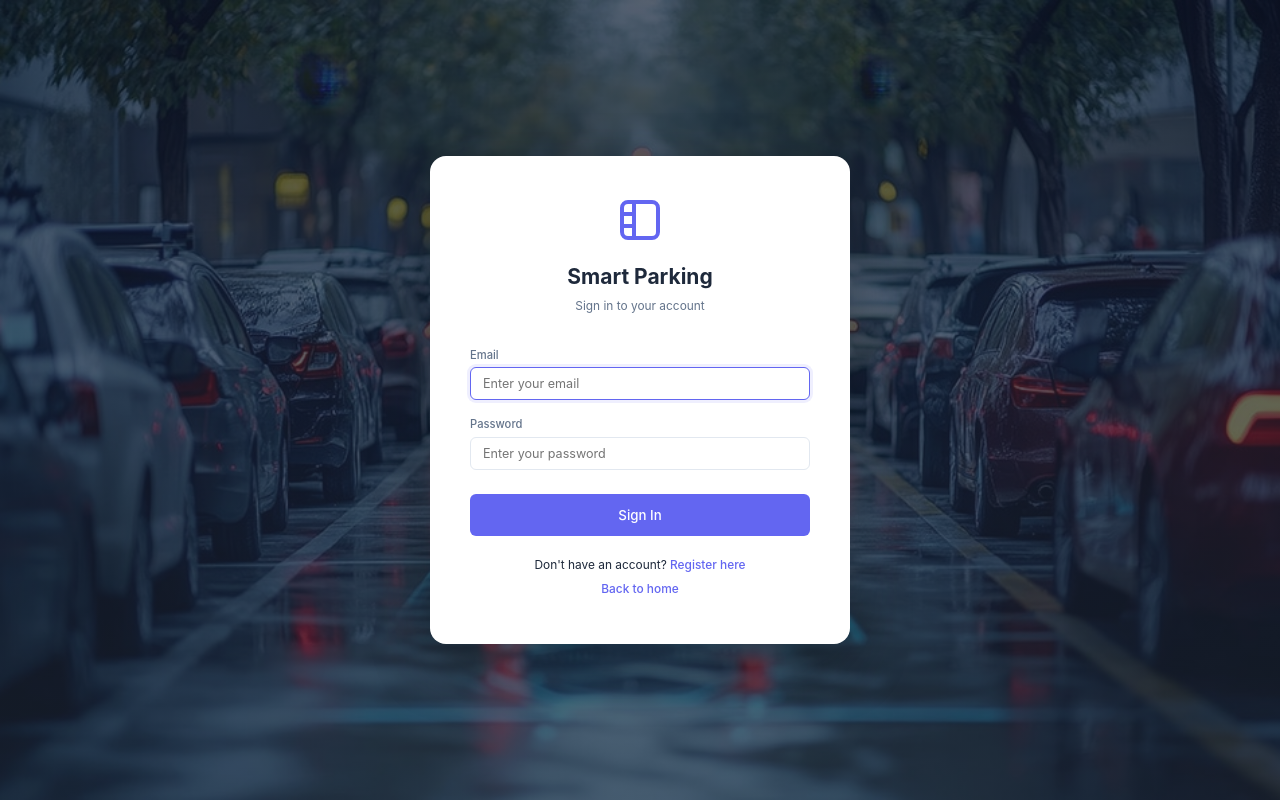
Scenario: LoginPage › shows an error when the login request fails
The width and height of the screenshot is (1280, 800).
Type "driver@example.com" into the field labelled "Email".
click(640, 384); type("driver@example.com")  # box top-left (470, 367), bottom-right (810, 400)
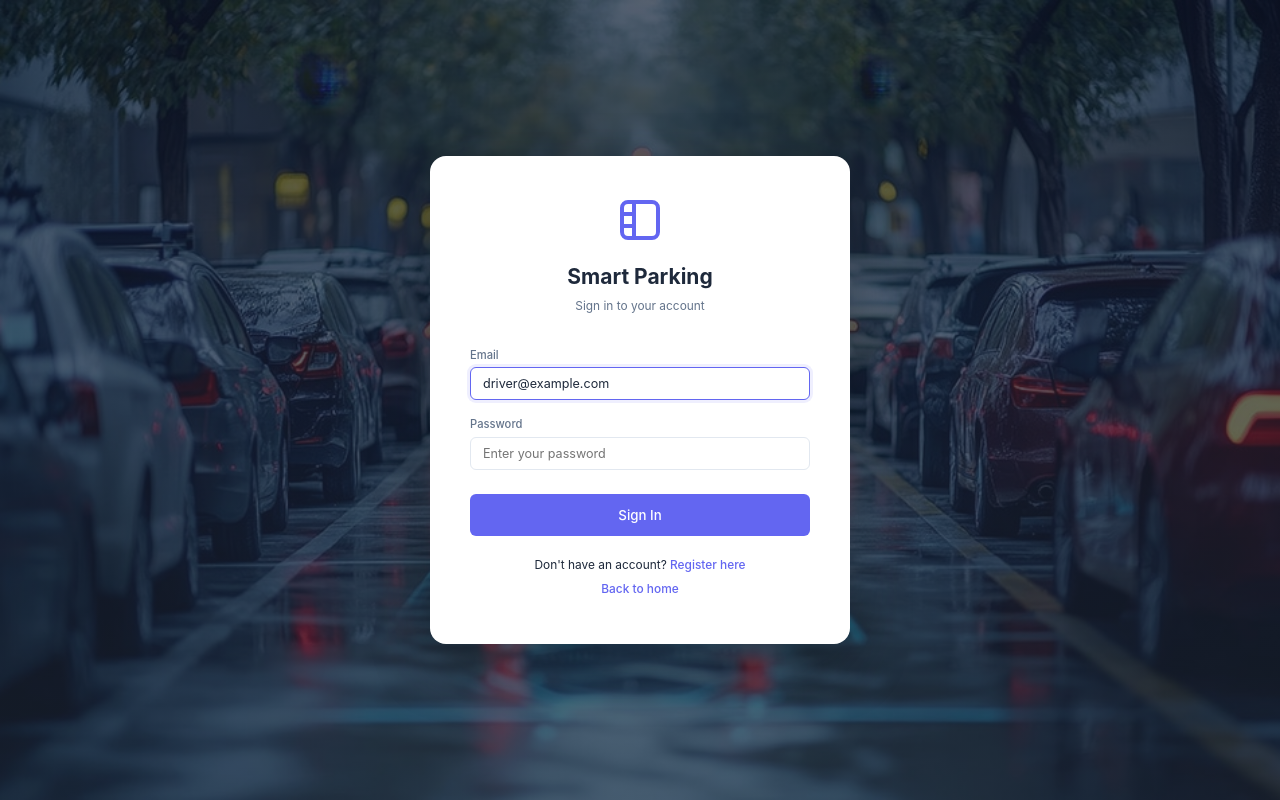
Type "wrong-pass" into the password field labelled "Password".
click(640, 454); type("wrong-pass")  # box top-left (470, 437), bottom-right (810, 470)
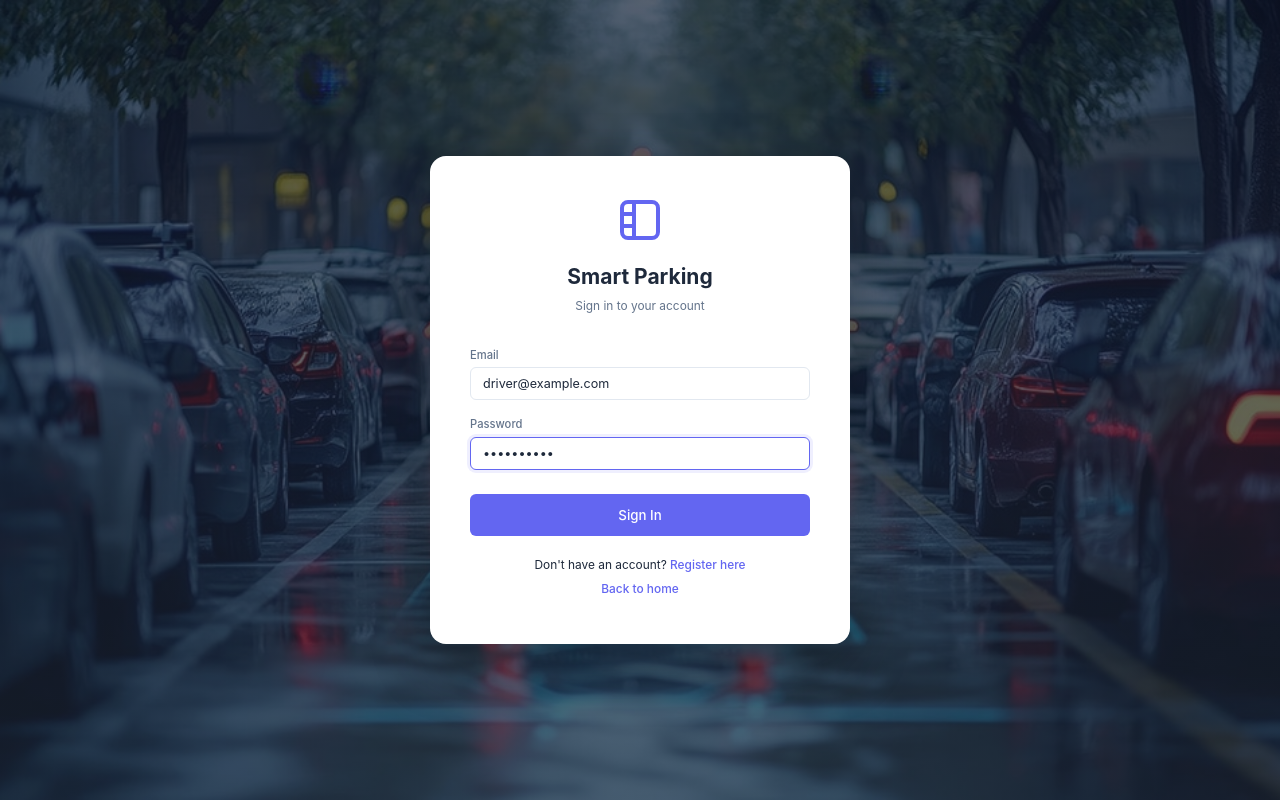
Click the button "Sign In".
click(640, 515)  # box top-left (470, 494), bottom-right (810, 536)
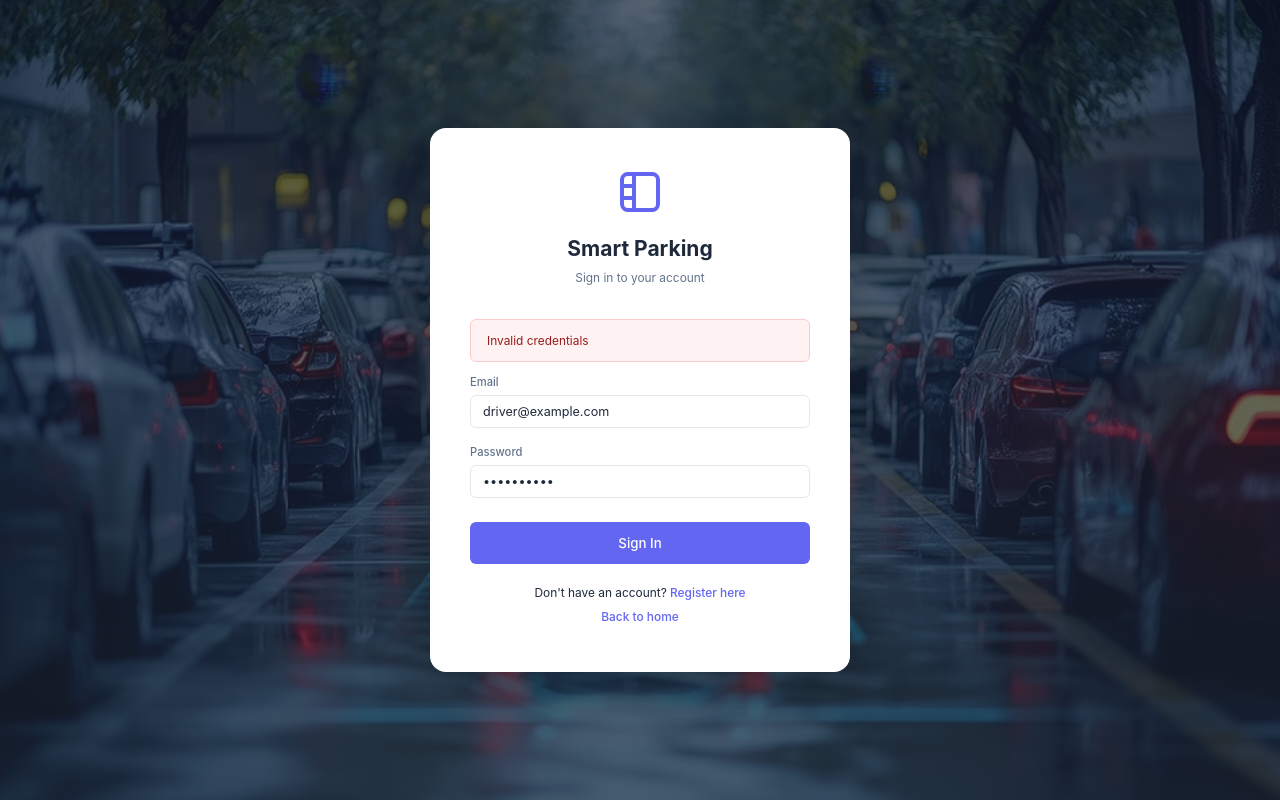
Expected: the button "Sign In" is enabled, top-left (470, 522), bottom-right (810, 564)
Now the text "Invalid credentials" is shown, box top-left (470, 319), bottom-right (810, 362)
